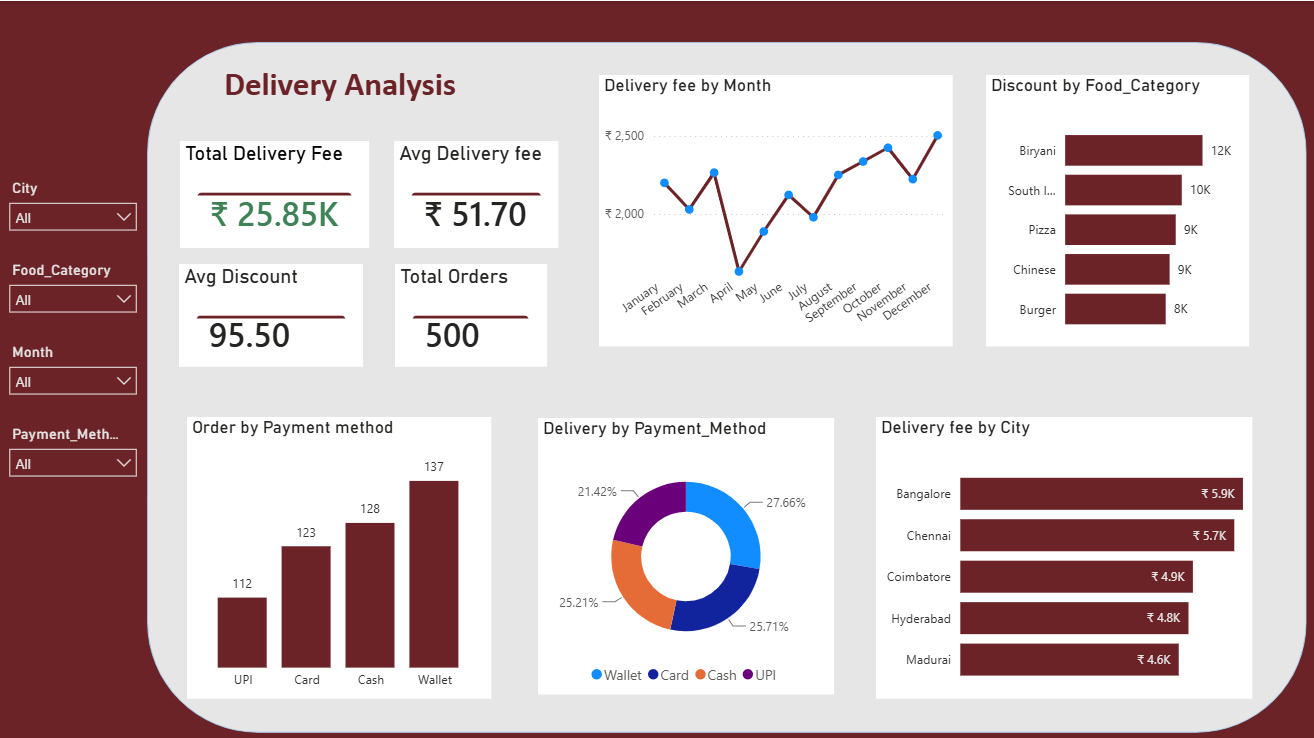

Layout of this report page (visuals, bound fields, positions):
{"tool":"powerbi","page":{"name":"Delivery Analysis","canvas":[1280,720],"ordinal":2},"visuals":[{"type":"shape","box":[144,40,1128,672],"z":0,"group":"g1"},{"type":"slicer","fields":{"Values":["Sheet.City"]},"box":[0,168,144,80],"z":0},{"type":"group","id":"g1","title":"Group 1","box":[144,40,1128,672],"z":1000},{"type":"cardVisual","title":"Total Delivery Fee","fields":{"Data":["Sheet.total delivery"]},"box":[176,136,184,104],"z":1000,"group":"g1"},{"type":"textbox","box":[214.1,56.6,251.7,82.1],"z":2000,"group":"g1"},{"type":"slicer","fields":{"Values":["Sheet.Food_Category"]},"box":[0,248,144,80],"z":2000},{"type":"cardVisual","title":"Avg Delivery fee","fields":{"Data":["Sheet.avg delivery"]},"box":[384,136,160,104],"z":3000,"group":"g1"},{"type":"slicer","fields":{"Values":["Sheet.Order_Date.Variation.Date Hierarchy.Month"]},"box":[0,328,144,80],"z":3000},{"type":"cardVisual","title":"Total Orders","fields":{"Data":["CountNonNull(Sheet.Order_ID)"]},"box":[385.4,255.7,148,99.6],"z":4000,"group":"g1"},{"type":"slicer","fields":{"Values":["Sheet.Payment_Method"]},"box":[0,408,144,80],"z":4000},{"type":"cardVisual","title":"Avg Discount ","fields":{"Data":["Sheet.Avg discount"]},"box":[175.1,255.7,179.1,99.6],"z":5000,"group":"g1"},{"type":"lineChart","title":" Delivery fee by Month","fields":{"Category":["Sheet.Order_Date.Variation.Date Hierarchy.Month"],"Y":["Sheet.total delivery"]},"box":[584,72,344,264],"z":6000,"group":"g1"},{"type":"barChart","title":" Delivery fee by City","fields":{"Category":["Sheet.City"],"Y":["Sheet.total delivery"]},"box":[852.6,405,366,273.8],"z":7000,"group":"g1"},{"type":"donutChart","title":" Delivery by Payment_Method","fields":{"Y":["Sheet.total delivery"],"Category":["Sheet.Payment_Method"]},"box":[524.6,405.9,287.7,268.8],"z":8000,"group":"g1"},{"type":"clusteredBarChart","title":" Discount by Food_Category","fields":{"Y":["Sheet.total discount"],"Category":["Sheet.Food_Category"]},"box":[960,72,256,264],"z":9000,"group":"g1"},{"type":"columnChart","title":"Order by Payment method","fields":{"Category":["Sheet.Payment_Method"],"Y":["CountNonNull(Sheet.Order_ID)"]},"box":[182.9,405,295.9,273.8],"z":10000,"group":"g1"}]}

Visuals, with their boxes in screenshot pixels (x1, y1, x2, y2), scaled from the page's 1280x720 canvas onto the 1314x738 screenshot:
shape: <box>148,41,1306,730</box>
slicer - Sheet.City: <box>0,172,148,254</box>
"Group 1" group: <box>148,41,1306,730</box>
"Total Delivery Fee" cardVisual: <box>181,139,370,246</box>
textbox: <box>220,58,478,142</box>
slicer - Sheet.Food_Category: <box>0,254,148,336</box>
"Avg Delivery fee" cardVisual: <box>394,139,558,246</box>
slicer - Sheet.Order_Date.Variation.Date Hierarchy.Month: <box>0,336,148,418</box>
"Total Orders" cardVisual: <box>396,262,548,364</box>
slicer - Sheet.Payment_Method: <box>0,418,148,500</box>
"Avg Discount " cardVisual: <box>180,262,364,364</box>
" Delivery fee by Month" lineChart: <box>600,74,953,344</box>
" Delivery fee by City" barChart: <box>875,415,1251,696</box>
" Delivery by Payment_Method" donutChart: <box>539,416,834,692</box>
" Discount by Food_Category" clusteredBarChart: <box>986,74,1248,344</box>
"Order by Payment method" columnChart: <box>188,415,492,696</box>
